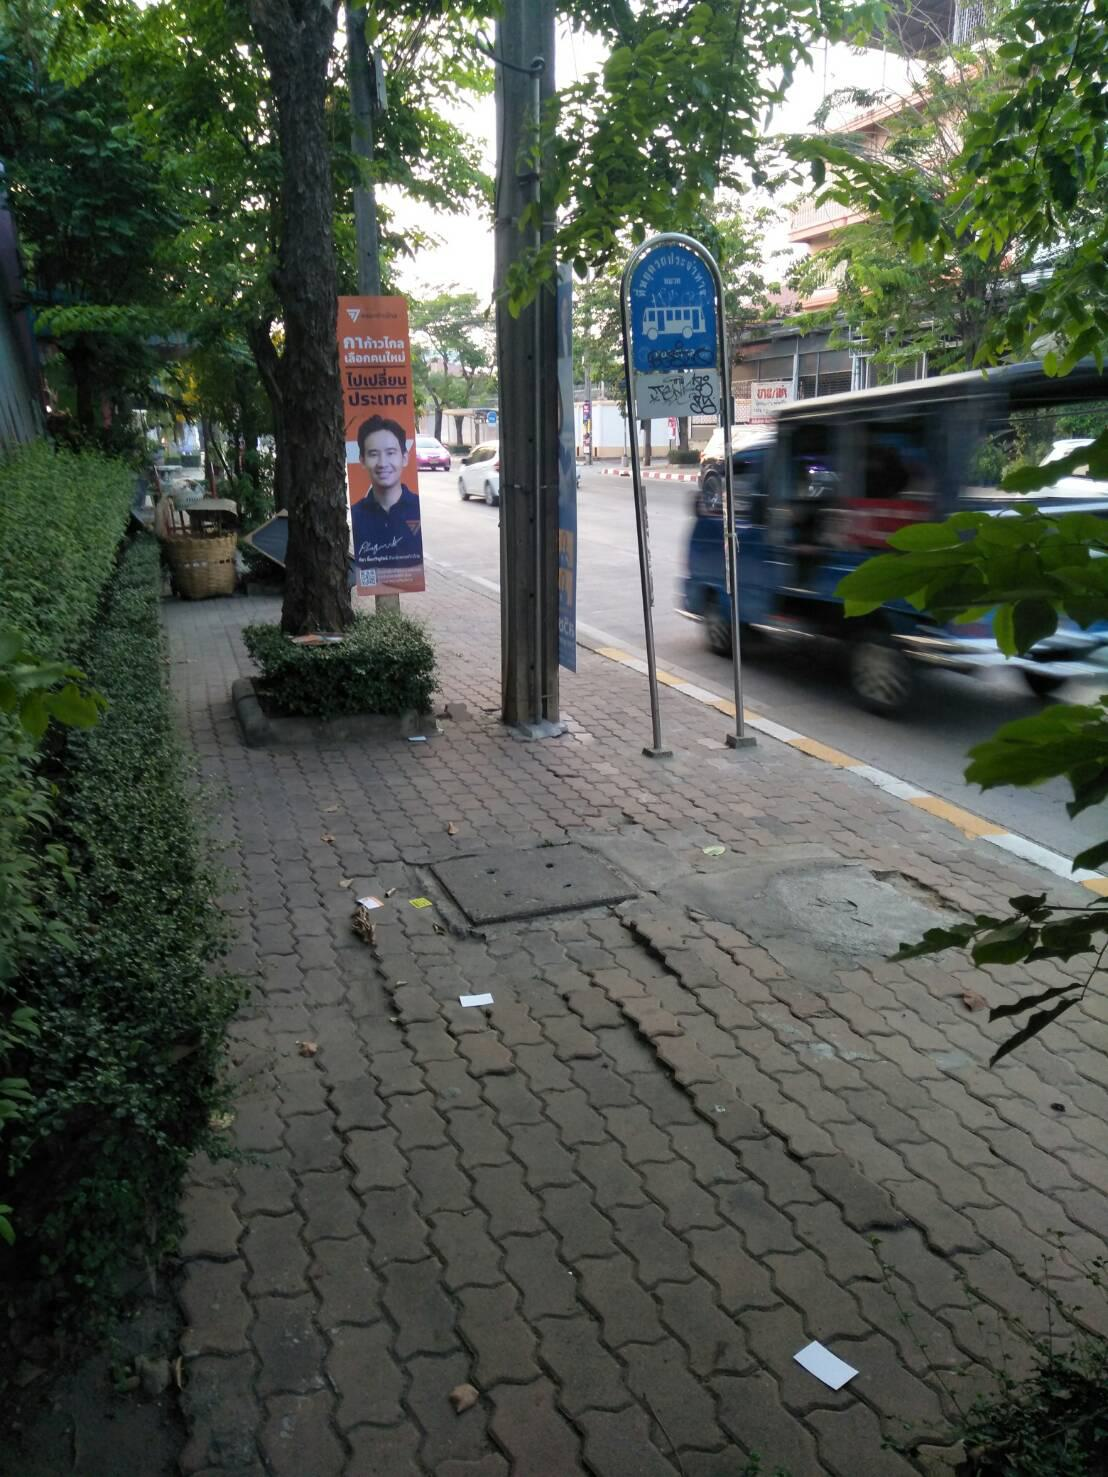Banner: (329, 287, 428, 601)
